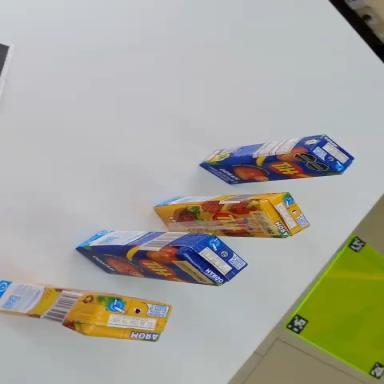HIT-MANGO: (75, 225, 248, 288), (198, 132, 355, 188)
HIT-MORA: (0, 279, 172, 347), (154, 192, 309, 242)
cara_F: (198, 148, 342, 188), (74, 249, 220, 286), (154, 203, 285, 241)
